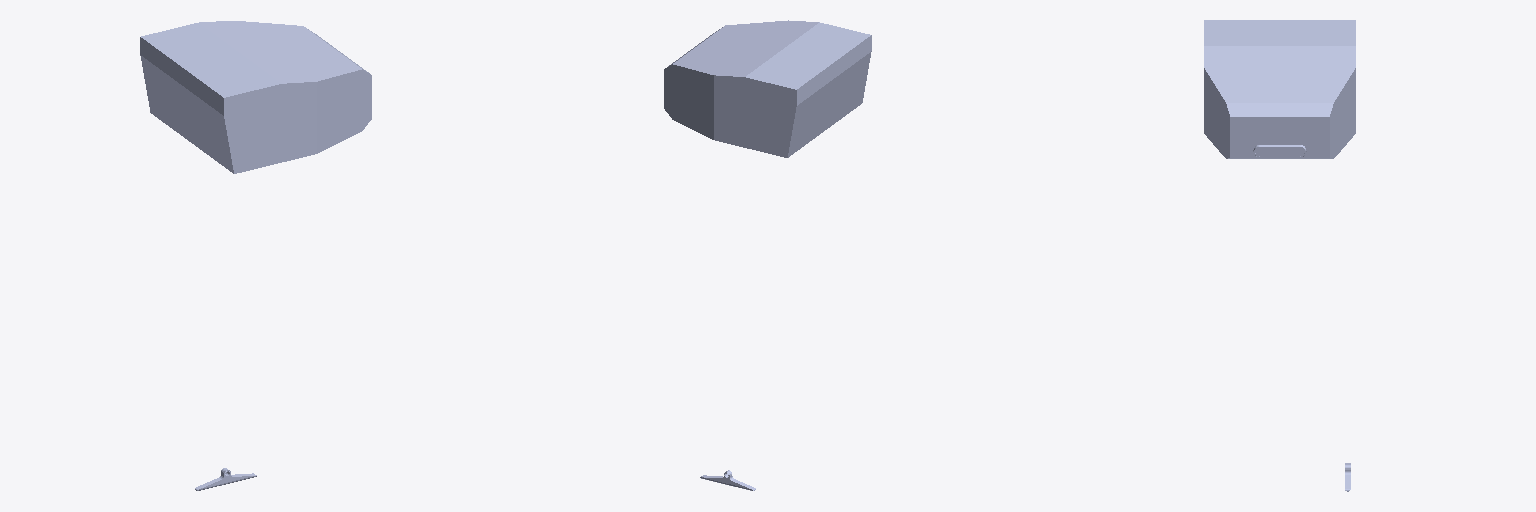
URDF robot description (biped):
<?xml version="1.0" encoding="utf-8"?>
<robot
  name="biped">
  <link
    name="base_link">
    <inertial>
      <origin
        xyz="-0.000639394470299467 -2.37318373953936E-09 0.0465153734772294"
        rpy="0 0 0" />
      <mass
        value="7.62083335132822" />
      <inertia
        ixx="0.0451858842619121"
        ixy="4.25989822959874E-07"
        ixz="0.00342824655830176"
        iyy="0.0516151579525598"
        iyz="2.11360864436647E-09"
        izz="0.07770577553124" />
    </inertial>
    <visual>
      <origin
        xyz="0 0 0"
        rpy="0 0 0" />
      <geometry>
        <mesh
          filename="package://biped_robot_description/meshes/base_link.STL" />
      </geometry>
      <material
        name="">
        <color
          rgba="0.792156862745098 0.819607843137255 0.933333333333333 1" />
      </material>
    </visual>
    <collision>
      <origin
        xyz="0 0 0"
        rpy="0 0 0" />
      <geometry>
        <mesh
          filename="package://biped_robot_description/meshes/base_link.STL" />
      </geometry>
    </collision>
  </link>
  <link
    name="FR_HIP">
    <inertial>
      <origin
        xyz="-0.04439 -4.3944E-05 -0.063969"
        rpy="0 0 0" />
      <mass
        value="0.35434" />
      <inertia
        ixx="0.00038957"
        ixy="2.8341E-07"
        ixz="4.8692E-05"
        iyy="0.00044213"
        iyz="6.378E-08"
        izz="0.00039356" />
    </inertial>
    <visual>
      <origin
        xyz="0 0 0"
        rpy="0 0 0" />
      <geometry>
        <mesh
          filename="package://biped_robot_description/meshes/FR_HIP.STL" />
      </geometry>
      <material
        name="">
        <color
          rgba="0.69804 0.69804 0.69804 1" />
      </material>
    </visual>
    <collision>
      <origin
        xyz="0 0 0"
        rpy="0 0 0" />
      <geometry>
        <mesh
          filename="package://biped_robot_description/meshes/FR_HIP.STL" />
      </geometry>
    </collision>
  </link>
  <joint
    name="FR_YAW"
    type="revolute">
    <origin
      xyz="0 -0.0700000000000001 -0.0157999999999999"
      rpy="0 0 0" />
    <parent
      link="base_link" />
    <child
      link="FR_HIP" />
        <limit effort="1000" lower="-10" upper="10" velocity="1000"/>
    <axis
      xyz="0 0 1" />
  </joint>
  <link
    name="FR_SHOULDER">
    <inertial>
      <origin
        xyz="0.0084801 0.022635 -0.00077539"
        rpy="0 0 0" />
      <mass
        value="0.30702" />
      <inertia
        ixx="0.0002067"
        ixy="2.1989E-06"
        ixz="1.1262E-07"
        iyy="0.0003195"
        iyz="4.3332E-06"
        izz="0.00019771" />
    </inertial>
    <visual>
      <origin
        xyz="0 0 0"
        rpy="0 0 0" />
      <geometry>
        <mesh
          filename="package://biped_robot_description/meshes/FR_SHOULDER.STL" />
      </geometry>
      <material
        name="">
        <color
          rgba="1 0 0 1" />
      </material>
    </visual>
    <collision>
      <origin
        xyz="0 0 0"
        rpy="0 0 0" />
      <geometry>
        <mesh
          filename="package://biped_robot_description/meshes/FR_SHOULDER.STL" />
      </geometry>
    </collision>
  </link>
  <joint
    name="FR_HAA"
    type="revolute">
    <origin
      xyz="0 0 -0.073"
      rpy="0 0 0" />
    <parent
      link="FR_HIP" />
    <child
      link="FR_SHOULDER" />
    <axis
      xyz="1 0 0" />
    <limit effort="1000" lower="-10" upper="10" velocity="1000"/>
  </joint>
  <link
    name="FR_UPPER_LEG">
    <inertial>
      <origin
        xyz="0.00999917539850848 -0.0491846654467433 -0.0389251527043696"
        rpy="0 0 0" />
      <mass
        value="0.459365802658862" />
      <inertia
        ixx="0.00143336057712295"
        ixy="5.12867175943416E-10"
        ixz="6.11565816341328E-08"
        iyy="0.00166768021821664"
        iyz="7.98881842482862E-06"
        izz="0.000320094254580036" />
    </inertial>
    <visual>
      <origin
        xyz="0 0 0"
        rpy="0 0 0" />
      <geometry>
        <mesh
          filename="package://biped_robot_description/meshes/FR_UPPER_LEG.STL" />
      </geometry>
      <material
        name="">
        <color
          rgba="1 0 0 1" />
      </material>
    </visual>
    <collision>
      <origin
        xyz="0 0 0"
        rpy="0 0 0" />
      <geometry>
        <mesh
          filename="package://biped_robot_description/meshes/FR_UPPER_LEG.STL" />
      </geometry>
    </collision>
  </link>
  <joint
    name="FR_HFE"
    type="revolute">
    <origin
      xyz="0 0 0"
      rpy="0 0 0" />
    <parent
      link="FR_SHOULDER" />
    <child
      link="FR_UPPER_LEG" />
    <axis
      xyz="0 1 0" />
      <limit effort="1000" lower="-10" upper="10" velocity="1000"/>
  </joint>
  <link
    name="FR_LOWER_LEG">
    <inertial>
      <origin
        xyz="8.85333552616378E-06 0.0171411389819433 -0.111259699580943"
        rpy="0 0 0" />
      <mass
        value="0.0911245737715333" />
      <inertia
        ixx="0.000436787158269832"
        ixy="1.05294002111962E-08"
        ixz="1.26662065411541E-08"
        iyy="0.000436804088199172"
        iyz="1.25717901498266E-06"
        izz="1.5386338329274E-05" />
    </inertial>
    <visual>
      <origin
        xyz="0 0 0"
        rpy="0 0 0" />
      <geometry>
        <mesh
          filename="package://biped_robot_description/meshes/FR_LOWER_LEG.STL" />
      </geometry>
      <material
        name="">
        <color
          rgba="0.792156862745098 0.819607843137255 0.933333333333333 1" />
      </material>
    </visual>
    <collision>
      <origin
        xyz="0 0 0"
        rpy="0 0 0" />
      <geometry>
        <mesh
          filename="package://biped_robot_description/meshes/FR_LOWER_LEG.STL" />
      </geometry>
    </collision>
  </link>
  <joint
    name="FR_KFE"
    type="revolute">
    <origin
      xyz="0.01 -0.057399 -0.23429"
      rpy="0 0 0" />
    <parent
      link="FR_UPPER_LEG" />
    <child
      link="FR_LOWER_LEG" />
    <axis
      xyz="0 1 0" />
    <limit effort="1000" lower="-10" upper="10" velocity="1000"/>
  </joint>
  <link
    name="FR_FOOT">
    <inertial>
      <origin
        xyz="-1.50204329982598E-07 -6.55552252759595E-09 -0.0124757843132849"
        rpy="0 0 0" />
      <mass
        value="0.0001" />
      <inertia
        ixx="2.27156674728489E-07"
        ixy="1.8940555569311E-12"
        ixz="4.6640079123731E-12"
        iyy="4.4396263007081E-06"
        iyz="2.90644772891908E-13"
        izz="4.30705177925079E-06" />
    </inertial>
    <visual>
      <origin
        xyz="0 0 0"
        rpy="0 0 0" />
      <geometry>
        <mesh
          filename="package://biped_robot_description/meshes/FR_FOOT.STL" />
      </geometry>
      <material
        name="">
        <color
          rgba="0.792156862745098 0.819607843137255 0.933333333333333 1" />
      </material>
    </visual>
    <collision>
      <origin
        xyz="0 0 0"
        rpy="0 0 0" />
      <geometry>
        <mesh
          filename="package://biped_robot_description/meshes/FR_FOOT.STL" />
      </geometry>
    </collision>
  </link>
  <joint
    name="FR_ANKLE"
    type="revolute">
    <origin
      xyz="0 0.0168 -0.30826"
      rpy="0 0 0" />
    <parent
      link="FR_LOWER_LEG" />
    <child
      link="FR_FOOT" />
    <axis
      xyz="0 1 0" />
    <limit effort="1000" lower="-10" upper="10" velocity="1000"/>
  </joint>
  <link
    name="FL_HIP">
    <inertial>
      <origin
        xyz="0 0 0"
        rpy="0 0 0" />
      <mass
        value="0.01" />
      <inertia
        ixx="0.001"
        ixy="0"
        ixz="0"
        iyy="0.000001"
        iyz="0"
        izz="0.001" />
    </inertial>
    <visual>
      <origin
        xyz="0 0 0"
        rpy="0 0 0" />
      <geometry>
        <mesh
          filename="package://biped_robot_description/meshes/FL_HIP.STL" />
      </geometry>
      <material
        name="">
        <color
          rgba="1 1 1 1" />
      </material>
    </visual>
    <collision>
      <origin
        xyz="0 0 0"
        rpy="0 0 0" />
      <geometry>
        <mesh
          filename="package://biped_robot_description/meshes/FL_HIP.STL" />
      </geometry>
    </collision>
  </link>
  <joint
    name="FL_YAW"
    type="revolute">
    <origin
      xyz="0 0.07 -0.0158"
      rpy="0 0 0" />
    <parent
      link="base_link" />
    <child
      link="FL_HIP" />
    <axis
      xyz="0 0 1" />
    <limit effort="1000" lower="-10" upper="10" velocity="1000"/>
  </joint>
  <link
    name="FL_SHOULDER">
    <inertial>
      <origin
        xyz="0.0104369980559036 -0.0218020195475164 0.000775390834242926"
        rpy="0 0 0" />
      <mass
        value="0.307022440099937" />
      <inertia
        ixx="0.000207959995155771"
        ixy="1.20422626794703E-05"
        ixz="4.9308909073799E-07"
        iyy="0.000318246373210611"
        iyz="4.3064865095476E-06"
        izz="0.000197712953246141" />
    </inertial>
    <visual>
      <origin
        xyz="0 0 0"
        rpy="0 0 0" />
      <geometry>
        <mesh
          filename="package://biped_robot_description/meshes/FL_SHOULDER.STL" />
      </geometry>
      <material
        name="">
        <color
          rgba="1 0 0 1" />
      </material>
    </visual>
    <collision>
      <origin
        xyz="0 0 0"
        rpy="0 0 0" />
      <geometry>
        <mesh
          filename="package://biped_robot_description/meshes/FL_SHOULDER.STL" />
      </geometry>
    </collision>
  </link>
  <joint
    name="FL_HAA"
    type="revolute">
    <origin
      xyz="0 0 -0.073"
      rpy="0 0 0" />
    <parent
      link="FL_HIP" />
    <child
      link="FL_SHOULDER" />
    <axis
      xyz="1 0 0" />
    <limit effort="1000" lower="-10" upper="10" velocity="1000"/>
  </joint>
  <link
    name="FL_UPPER_LEG">
    <inertial>
      <origin
        xyz="0.010000111871374 0.0493505287698992 -0.0385952598840397"
        rpy="0 0 0" />
      <mass
        value="0.459365803346259" />
      <inertia
        ixx="0.00143336057683954"
        ixy="7.736743345379E-10"
        ixz="6.1152529062323E-08"
        iyy="0.00166758735207669"
        iyz="1.37461925754045E-05"
        izz="0.000320187121400746" />
    </inertial>
    <visual>
      <origin
        xyz="0 0 0"
        rpy="0 0 0" />
      <geometry>
        <mesh
          filename="package://biped_robot_description/meshes/FL_UPPER_LEG.STL" />
      </geometry>
      <material
        name="">
        <color
          rgba="0.792156862745098 0.819607843137255 0.933333333333333 1" />
      </material>
    </visual>
    <collision>
      <origin
        xyz="0 0 0"
        rpy="0 0 0" />
      <geometry>
        <mesh
          filename="package://biped_robot_description/meshes/FL_UPPER_LEG.STL" />
      </geometry>
    </collision>
  </link>
  <joint
    name="FL_HFE"
    type="revolute">
    <origin
      xyz="0 0 0"
      rpy="0 0 0" />
    <parent
      link="FL_SHOULDER" />
    <child
      link="FL_UPPER_LEG" />
    <axis
      xyz="0 1 0" />
    <limit effort="1000" lower="-10" upper="10" velocity="1000"/>
  </joint>
  <link
    name="FL_LOWER_LEG">
    <inertial>
      <origin
        xyz="-8.8533379014686E-06 -0.0171411389745038 -0.111259699612872"
        rpy="0 0 0" />
      <mass
        value="0.0911245737414644" />
      <inertia
        ixx="0.00043678715826298"
        ixy="1.05294010947744E-08"
        ixz="1.26662071930063E-08"
        iyy="0.000436804088197728"
        iyz="1.25717901206459E-06"
        izz="1.53863383236652E-05" />
    </inertial>
    <visual>
      <origin
        xyz="0 0 0"
        rpy="0 0 0" />
      <geometry>
        <mesh
          filename="package://biped_robot_description/meshes/FL_LOWER_LEG.STL" />
      </geometry>
      <material
        name="">
        <color
          rgba="0.792156862745098 0.819607843137255 0.933333333333333 1" />
      </material>
    </visual>
    <collision>
      <origin
        xyz="0 0 0"
        rpy="0 0 0" />
      <geometry>
        <mesh
          filename="package://biped_robot_description/meshes/FL_LOWER_LEG.STL" />
      </geometry>
    </collision>
  </link>
  <joint
    name="FL_KFE"
    type="revolute">
    <origin
      xyz="0.0099993 0.0584 -0.23393"
      rpy="0 0 0" />
    <parent
      link="FL_UPPER_LEG" />
    <child
      link="FL_LOWER_LEG" />
    <axis
      xyz="0 1 0" />
    <limit effort="1000" lower="-10" upper="10" velocity="1000"/>
  </joint>
  <link
    name="FL_FOOT">
    <inertial>
      <origin
        xyz="1.50204329408404E-07 6.55552259698489E-09 -0.0124757843132849"
        rpy="0 0 0" />
      <mass
        value="0.0001" />
      <inertia
        ixx="2.27156674728491E-07"
        ixy="1.89405555797E-12"
        ixz="4.66400790097924E-12"
        iyy="4.43962630070825E-06"
        iyz="2.90644772485E-13"
        izz="4.30705177925094E-06" />
    </inertial>
    <visual>
      <origin
        xyz="0 0 0"
        rpy="0 0 0" />
      <geometry>
        <mesh
          filename="package://biped_robot_description/meshes/FL_FOOT.STL" />
      </geometry>
      <material
        name="">
        <color
          rgba="0.792156862745098 0.819607843137255 0.933333333333333 1" />
      </material>
    </visual>
    <collision>
      <origin
        xyz="0 0 0"
        rpy="0 0 0" />
      <geometry>
        <mesh
          filename="package://biped_robot_description/meshes/FL_FOOT.STL" />
      </geometry>
    </collision>
  </link>
  <joint
    name="FL_ANKLE"
    type="revolute">
    <origin
      xyz="0 -0.0168 -0.30826"
      rpy="0 0 0" />
    <parent
      link="FL_LOWER_LEG" />
    <child
      link="FL_FOOT" />
    <axis
      xyz="0 1 0" />
    <limit effort="1000" lower="-10" upper="10" velocity="1000"/>
  </joint>
</robot>

--- Facts derived from the render (not from the file) ---
The picture shows the robot from 3 angles, left to right: view 1: azimuth 30°, elevation 25°; view 2: azimuth 150°, elevation 25°; view 3: azimuth 270°, elevation 25°; orthographic projection.
Model biped with 11 links and 10 joints (10 revolute), rooted at base_link, posed every joint at zero.
Links seen in each view (by area): view 1: base_link; view 2: base_link; view 3: base_link.
Boxes of the visible links, left/top/right/bottom form: base_link: left=140, top=21, right=371, bottom=173; base_link: left=664, top=20, right=871, bottom=157; base_link: left=1204, top=20, right=1355, bottom=158.
Bounding box of the posed robot: 0.2854 × 0.25 × 0.7648 m (x, y, z).
2 mesh visuals loaded from 11 distinct referenced files (2 binary STL); not drawn: 9 (reference not matched to a file when rendering).